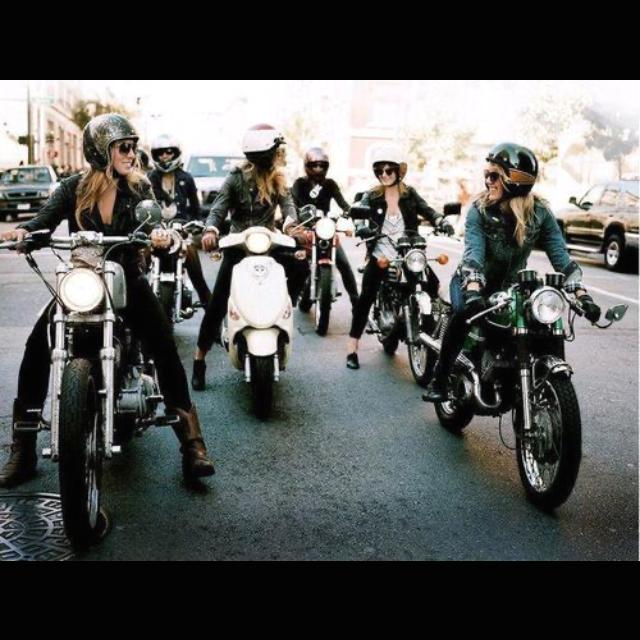With Helmet: (75, 110, 143, 177), (481, 136, 541, 202), (237, 118, 297, 176)
